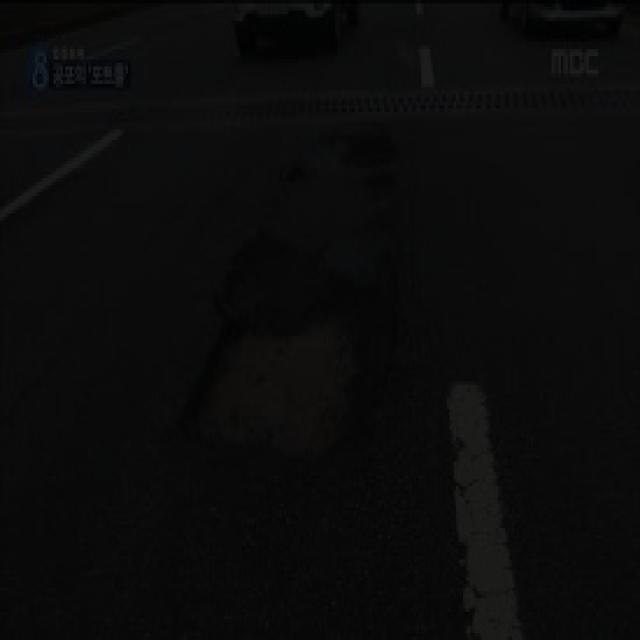pothole: (137, 282, 416, 475)
